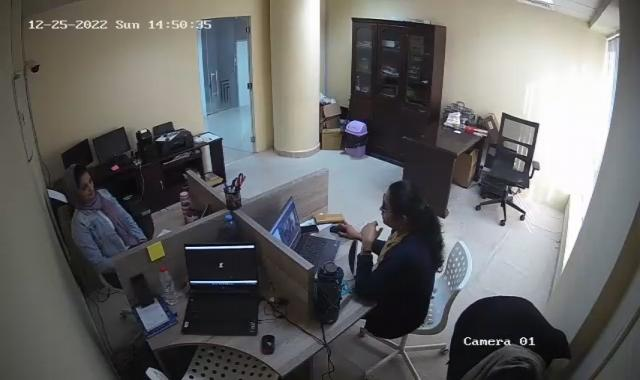no_hairnet: (384, 179, 422, 226), (63, 164, 96, 204)
